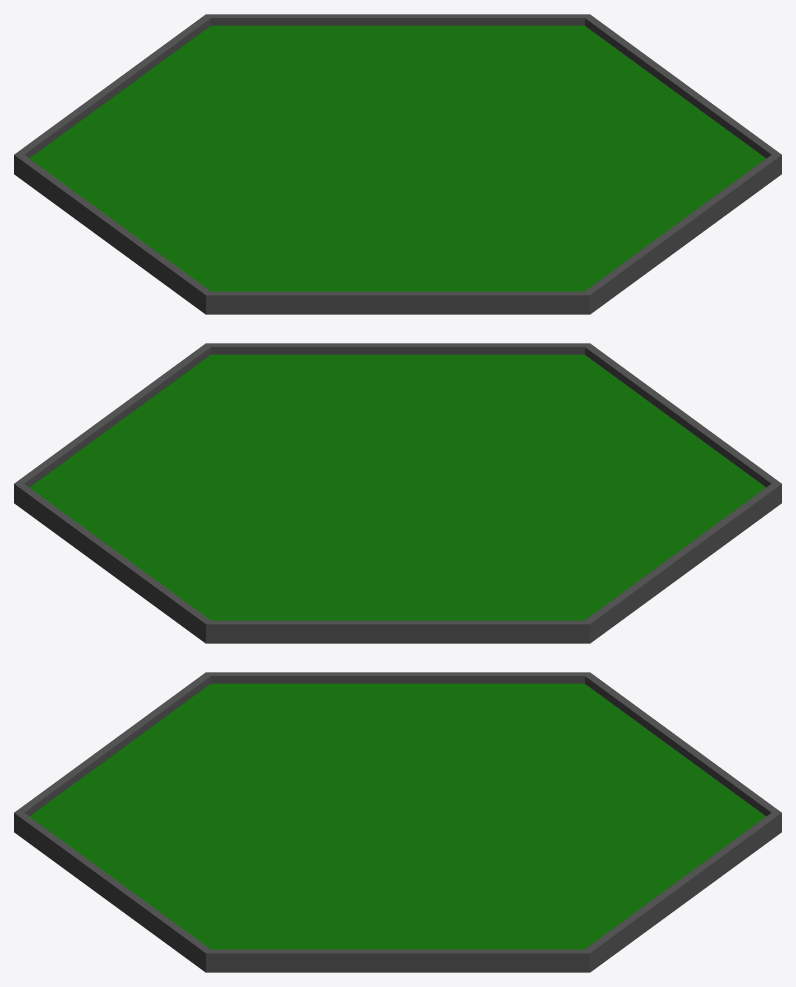
The model's file is FARM.fbx.
3 renders of one model, top to bottom at view 1: azimuth 30°, elevation 25°; view 2: azimuth 150°, elevation 25°; view 3: azimuth 270°, elevation 25°, orthographic.
Parts seen in each view (by area): view 1: Farm; view 2: Farm; view 3: Farm.
Boxes of the visible parts, x1,y1,x2,y2 form: Farm: (14, 14, 781, 314); Farm: (14, 343, 781, 643); Farm: (14, 672, 781, 972).
Size of the model in its own units: 55.77 by 1.8 by 64.39.
